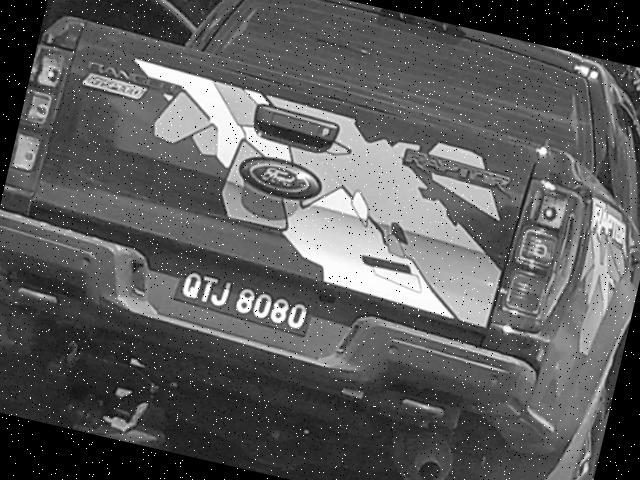License_Plate: (170, 266, 317, 341)
car: (1, 1, 640, 480)
